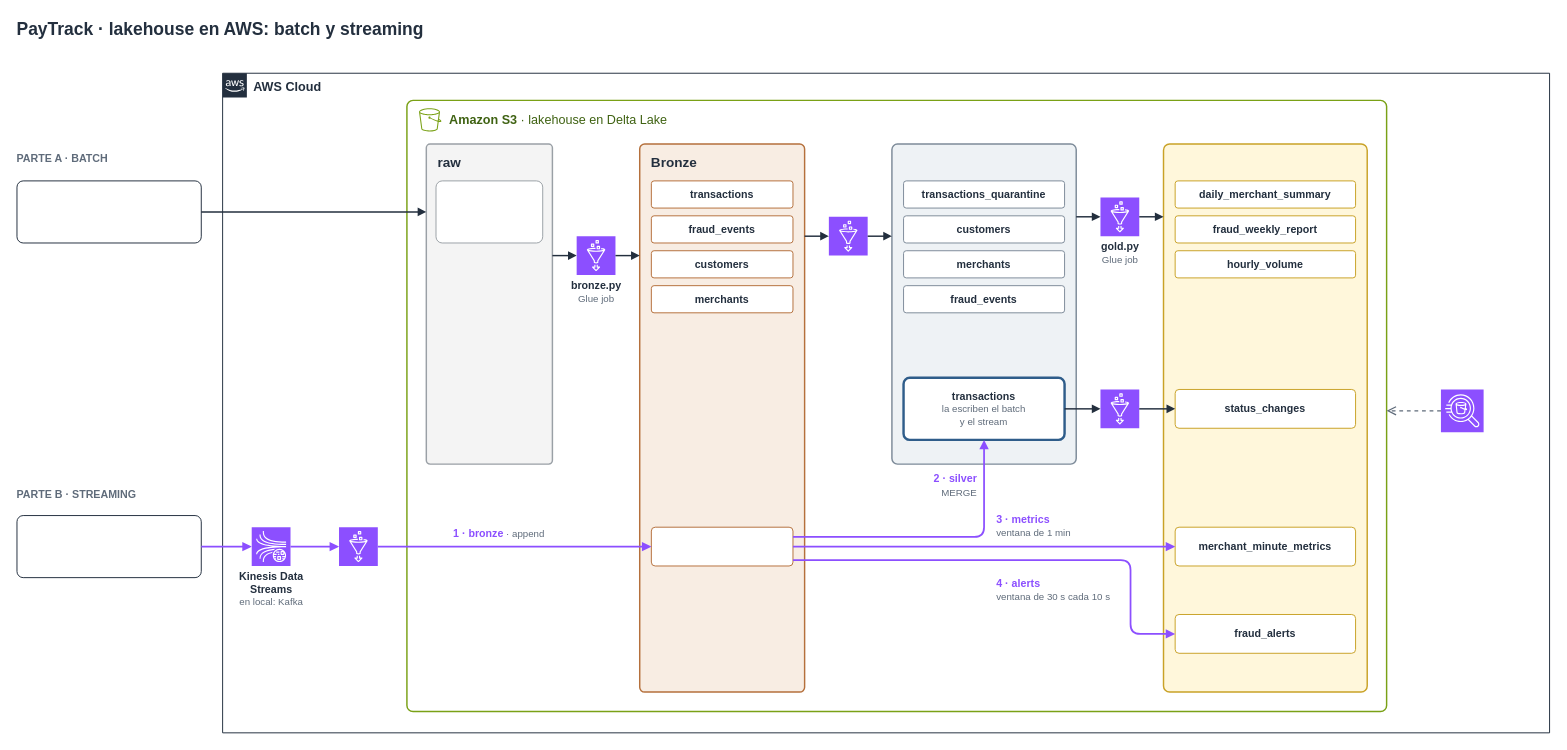
This 1567x750 diagram has some shape labels left out. Each missing label, with the box of its shape:
<dataset>/ ingest_date= AAAA-MM-DD/: (435, 180, 543, 243)
Amazon Athena tablas en el Glue Data Catalog: (1440, 388, 1484, 432)
audit.py Glue job time travel: (1099, 388, 1139, 428)
Gold: (1162, 143, 1368, 692)
ingest.py lotes data/batchN en JSON: (16, 180, 201, 243)
producer.py pagos en tiempo real: (16, 515, 201, 578)
Silver: (891, 143, 1077, 464)
silver.py Glue job: (828, 216, 868, 256)
stream.py Glue Streaming: (338, 526, 378, 566)
transaction_events: (650, 526, 793, 566)
